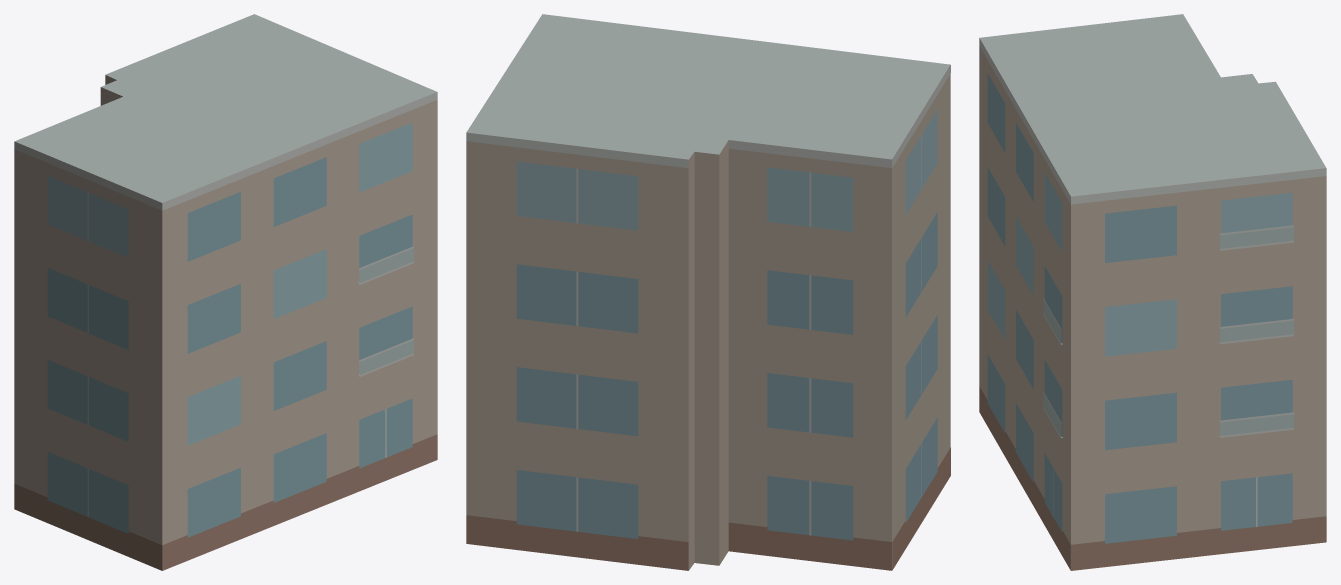
The model's file is survey-upis-32939408.glb.
The picture shows the model from 3 angles, left to right: view 1: azimuth 30°, elevation 25°; view 2: azimuth 150°, elevation 25°; view 3: azimuth 270°, elevation 25°; orthographic projection. The views are drawn at different scales.
Visible parts, largest first — view 1: survey-upis-32939408.tmp; view 2: survey-upis-32939408.tmp; view 3: survey-upis-32939408.tmp.
Boxes of the visible parts, x1,y1,x2,y2 form: survey-upis-32939408.tmp: (14, 14, 437, 570); survey-upis-32939408.tmp: (466, 14, 950, 570); survey-upis-32939408.tmp: (979, 14, 1326, 570).
Size of the model in its own units: 12.15 by 11.6 by 9.76.
